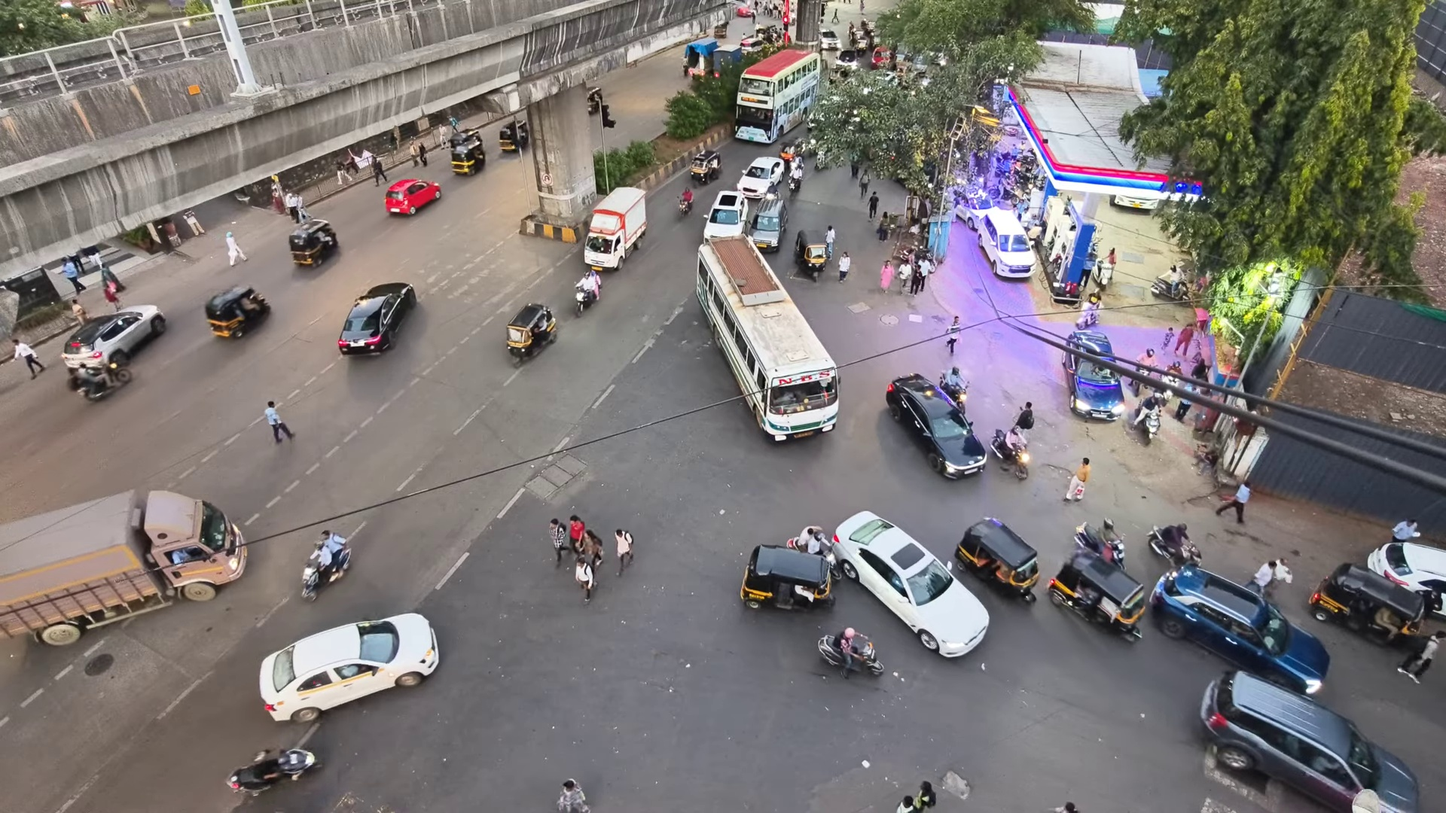driving: (0, 490, 246, 645), (1200, 672, 1422, 812), (696, 235, 838, 440), (1150, 565, 1329, 693), (834, 512, 988, 656), (259, 613, 438, 722), (886, 373, 987, 478), (1308, 563, 1427, 647), (1048, 548, 1146, 642), (735, 48, 822, 143), (955, 518, 1039, 603), (62, 305, 166, 368), (1367, 541, 1445, 618), (740, 545, 833, 608), (337, 282, 416, 354), (583, 187, 647, 270), (227, 748, 319, 796), (1062, 352, 1124, 420), (977, 209, 1036, 278), (204, 285, 270, 338), (507, 303, 557, 363), (301, 540, 351, 600), (786, 526, 841, 579), (68, 361, 132, 401), (1074, 519, 1124, 568), (288, 218, 339, 266), (703, 190, 749, 240), (1146, 525, 1202, 566), (749, 194, 789, 251), (990, 428, 1030, 480), (384, 178, 441, 214), (737, 157, 784, 198), (449, 127, 485, 175), (795, 230, 827, 282), (937, 367, 968, 411), (850, 635, 883, 676), (684, 38, 718, 75), (689, 149, 721, 184), (574, 272, 598, 316), (498, 119, 529, 152), (819, 29, 840, 50), (735, 2, 755, 17)
walking: (1398, 632, 1445, 683), (1248, 559, 1292, 598), (1215, 480, 1250, 522), (12, 339, 44, 379), (1063, 458, 1090, 501), (264, 401, 293, 441), (558, 779, 589, 812), (548, 518, 567, 566), (575, 556, 594, 602), (62, 257, 86, 293), (615, 528, 633, 575), (583, 528, 604, 568), (225, 231, 248, 266), (914, 781, 936, 810), (1173, 324, 1194, 354), (1013, 401, 1034, 431), (569, 514, 585, 553), (1392, 519, 1420, 541), (916, 257, 933, 292), (946, 316, 961, 354), (897, 257, 911, 294), (370, 157, 388, 185), (335, 159, 353, 185), (880, 260, 894, 293), (103, 284, 120, 311), (1174, 397, 1191, 422), (838, 251, 851, 282), (71, 299, 87, 324), (876, 212, 889, 242), (1135, 348, 1155, 367), (859, 167, 871, 198), (825, 224, 835, 259), (895, 796, 915, 812), (1161, 326, 1173, 352), (409, 139, 419, 167), (417, 141, 427, 167), (868, 193, 878, 219), (850, 160, 859, 178)
